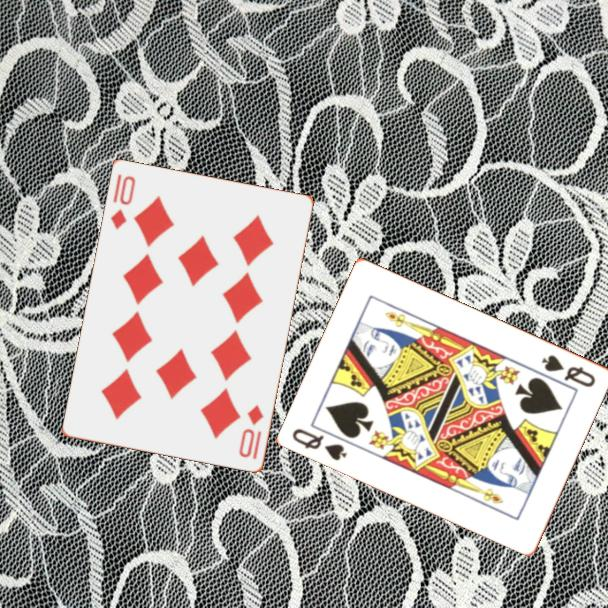d10: (107, 171, 139, 233), (235, 402, 267, 463)
s12: (289, 425, 351, 464), (538, 351, 599, 390)
